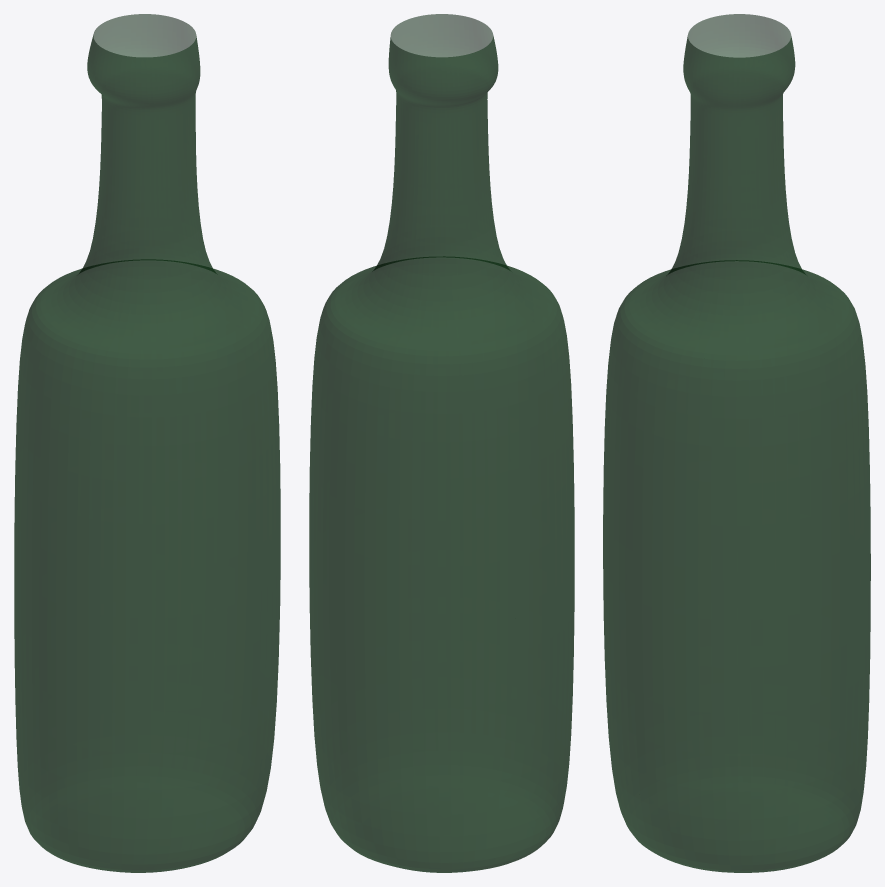
3 renders of one model, left to right at view 1: azimuth 30°, elevation 25°; view 2: azimuth 150°, elevation 25°; view 3: azimuth 270°, elevation 25°, orthographic.
Parts seen in each view (by area): view 1: Circle; view 2: Circle; view 3: Circle.
Part boxes in pixels (x1=…): Circle: x1=14, y1=14, x2=280, y2=872; Circle: x1=309, y1=14, x2=574, y2=872; Circle: x1=603, y1=14, x2=870, y2=872.
Size of the model in its own units: 5.27 by 17.39 by 5.27.
